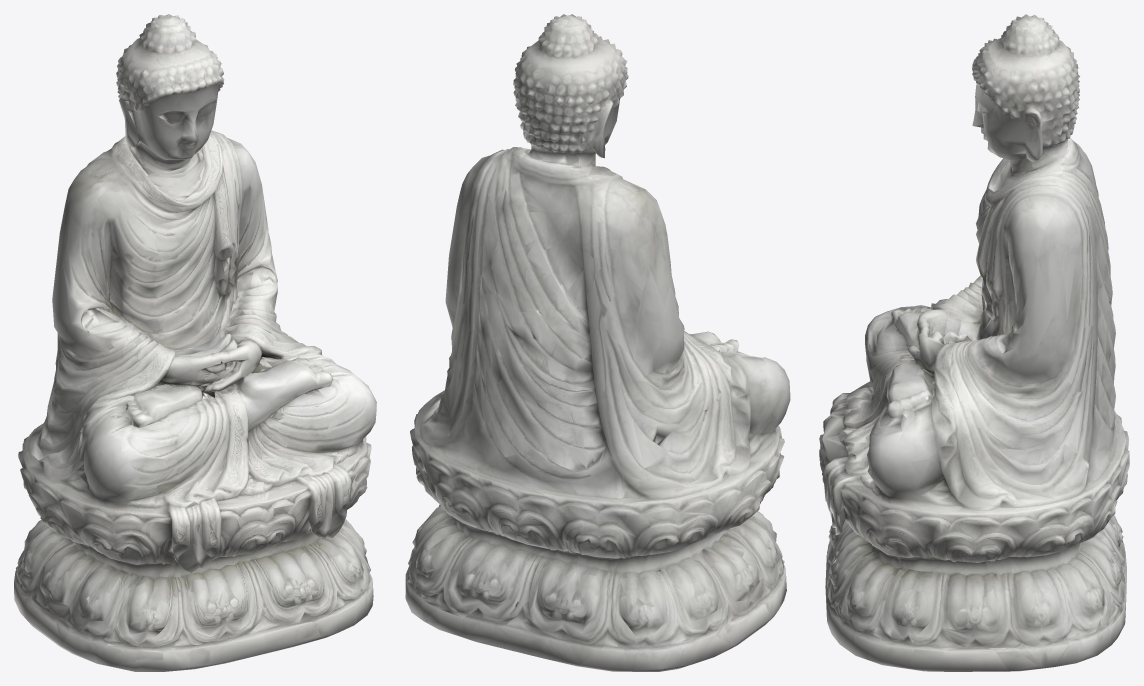
3 views of the same model, side by side, from view 1: azimuth 30°, elevation 25°; view 2: azimuth 150°, elevation 25°; view 3: azimuth 270°, elevation 25° (orthographic). The views are drawn at different scales.
Parts seen in each view (by area): view 1: statue-bodhi; view 2: statue-bodhi; view 3: statue-bodhi.
Boxes of the visible parts, x1,y1,x2,y2 form: statue-bodhi: [14, 14, 376, 671]; statue-bodhi: [405, 14, 790, 671]; statue-bodhi: [819, 14, 1129, 671].
Bounding box in the file's own units: 0.5629 × 0.9998 × 0.4833.
Materials: 1 (1 with a texture image).
